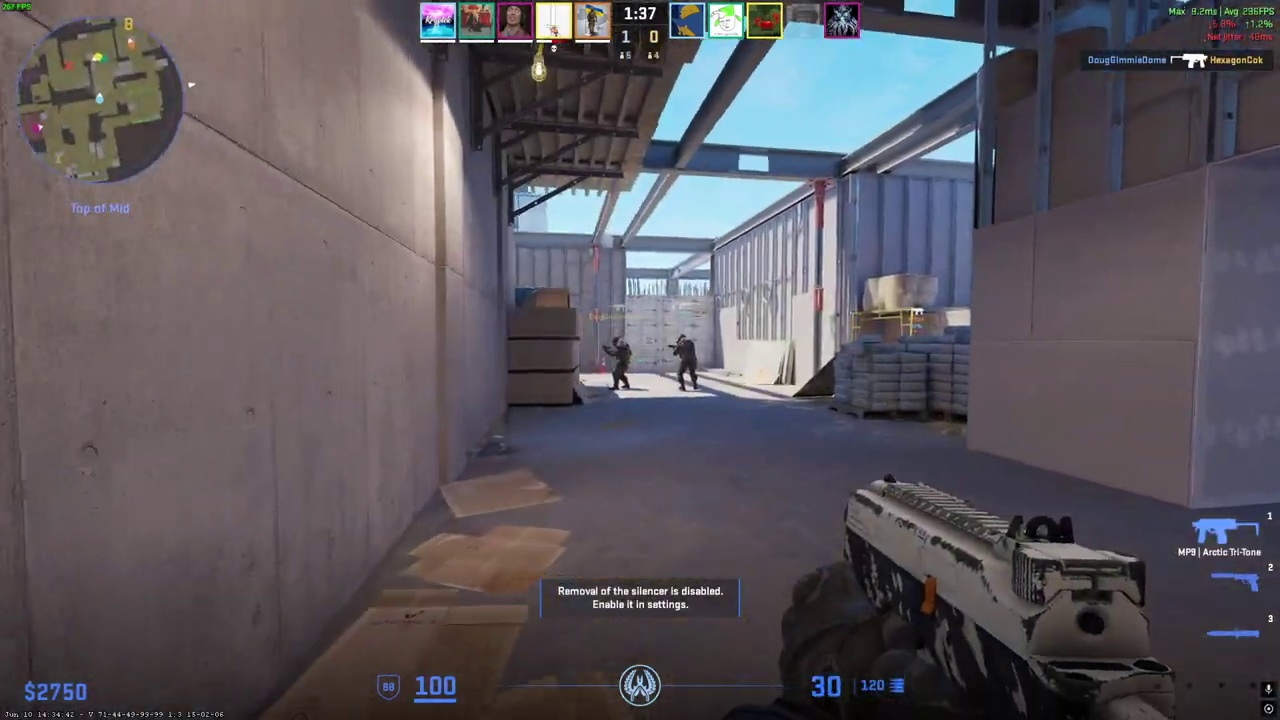CT: (674, 334, 697, 391), (608, 336, 632, 390)
